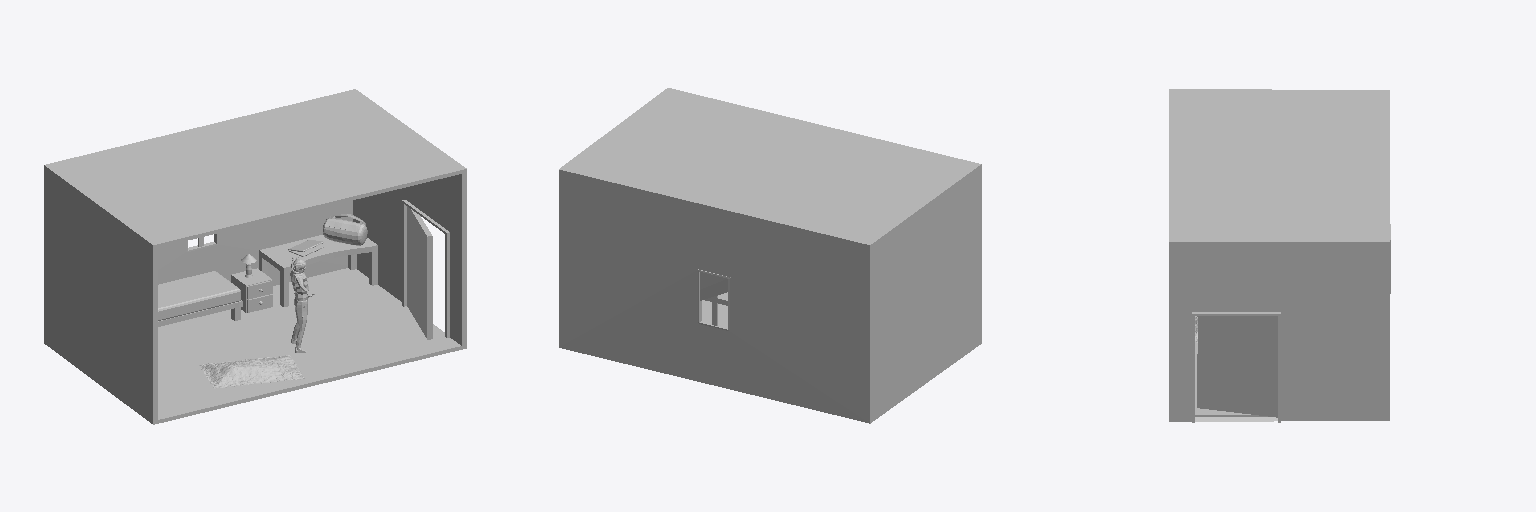
Rendered from Stanza completa(bozza).obj.
The picture shows the model from 3 angles: view 1: azimuth 30°, elevation 25°; view 2: azimuth 150°, elevation 25°; view 3: azimuth 270°, elevation 25°; orthographic projection.
Parts seen in each view (by area): view 1: Pomello_comodino.000_Sphere.000, Stanza.002_Cube.009, Materasso_Cube.002, Scrivania_Cube.008, Telo_Plane, Comodino_Cube.004, Zaino_Sphere.004, Cappello/sciarpa/pantaloni/scarpe_base_character.000, Letto_Cube.003; view 2: Pomello_comodino.000_Sphere.000, Cube; view 3: Pomello_comodino.000_Sphere.000, Stanza.002_Cube.009.
Boxes of the visible parts, <box> form: Pomello_comodino.000_Sphere.000: <box>44,89,466,424</box>; Stanza.002_Cube.009: <box>407,206,432,339</box>; Materasso_Cube.002: <box>158,271,240,320</box>; Scrivania_Cube.008: <box>259,235,377,306</box>; Telo_Plane: <box>199,355,304,388</box>; Comodino_Cube.004: <box>231,268,272,312</box>; Zaino_Sphere.004: <box>323,214,367,245</box>; Cappello/sciarpa/pantaloni/scarpe_base_character.000: <box>291,259,308,352</box>; Letto_Cube.003: <box>158,300,242,326</box>; Pomello_comodino.000_Sphere.000: <box>559,88,981,423</box>; Cube: <box>698,269,730,330</box>; Pomello_comodino.000_Sphere.000: <box>1169,89,1389,422</box>; Stanza.002_Cube.009: <box>1197,316,1277,417</box>.
Size of the model in its own units: 14.88 by 8.08 by 9.03.